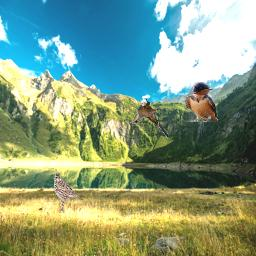Cuckoo: (130, 98, 168, 138)
Sparrow: (54, 173, 83, 213)
Swallow: (185, 82, 218, 122)
